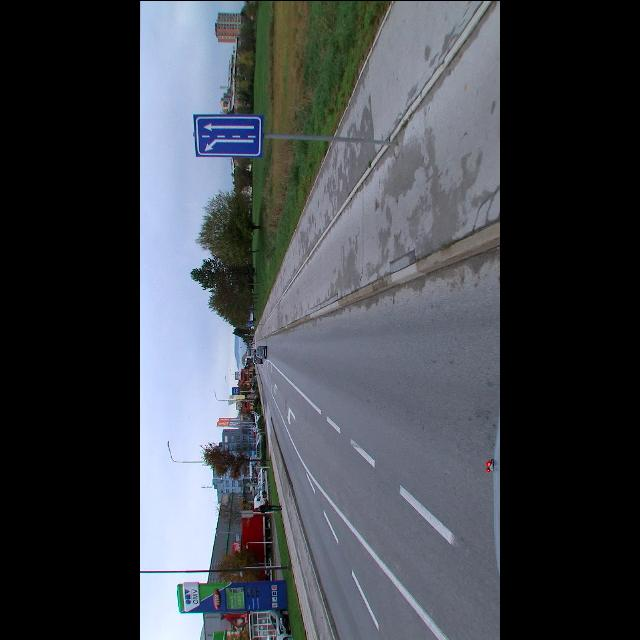Rectangle: (195, 114, 265, 156)
